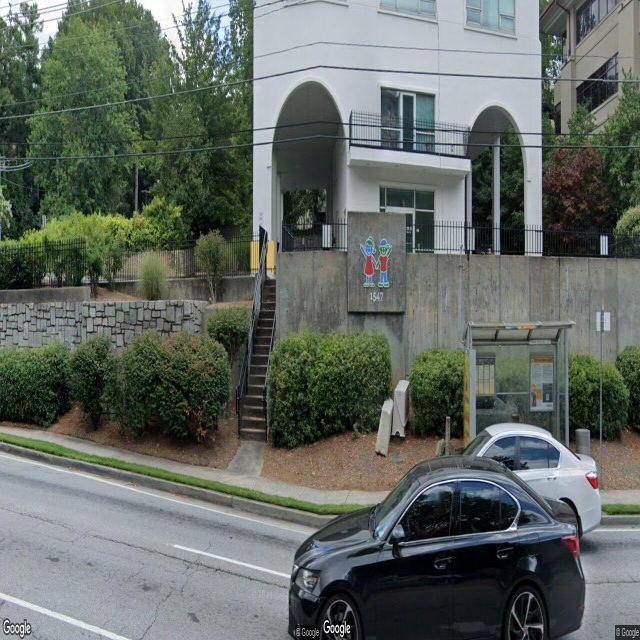shelter: (464, 322, 576, 462)
trash_can: (576, 426, 590, 455)
